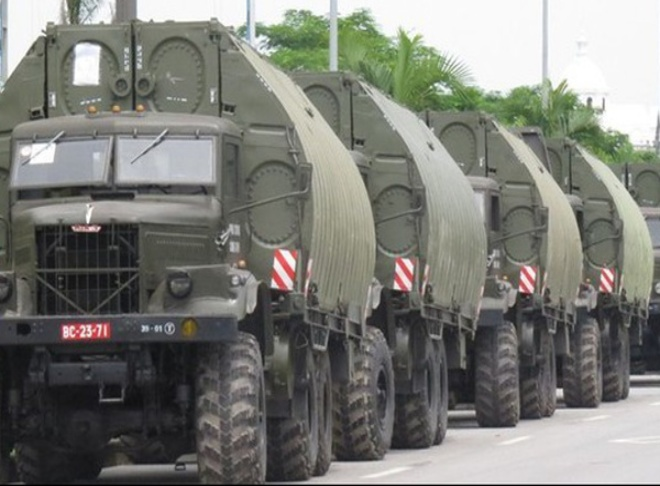plate: (60, 324, 113, 339)
